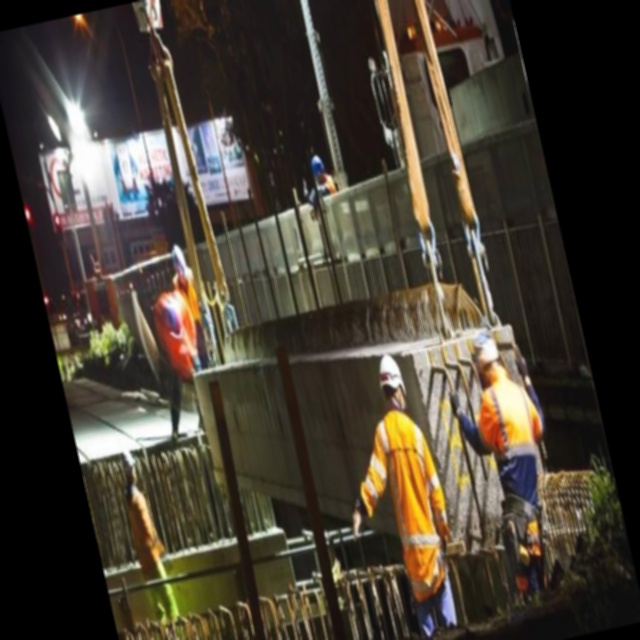Con_Casco: (374, 351, 410, 411)
Con_Chaleco: (372, 406, 460, 585)
